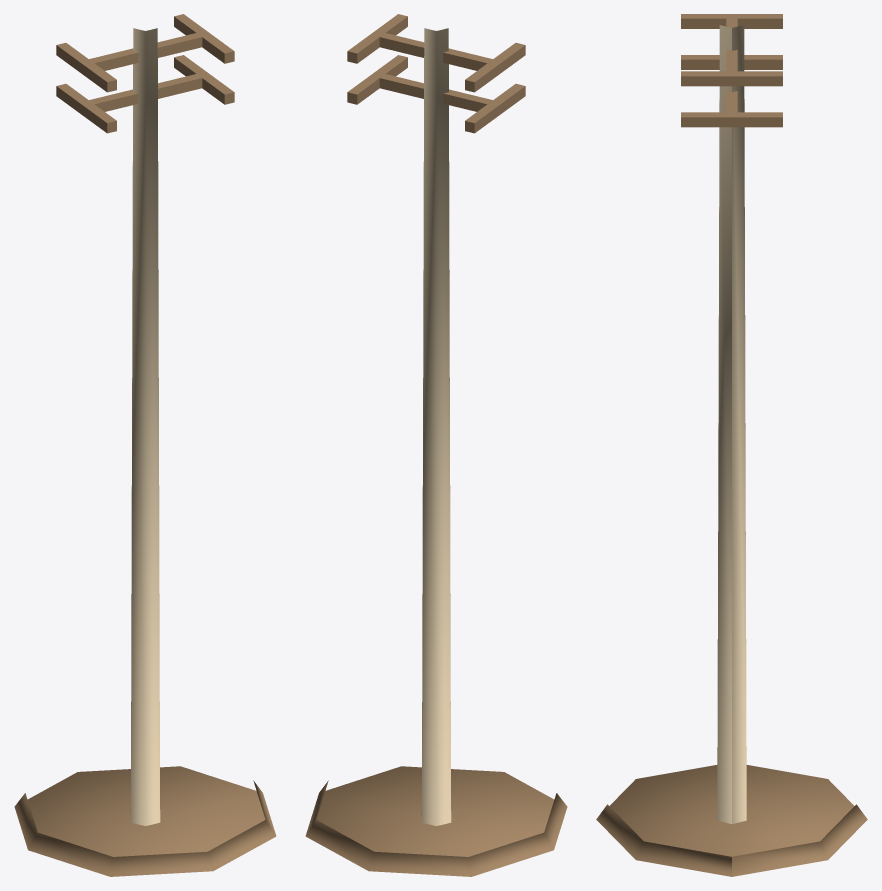
The model's file is coat_hanger.glb.
3 views of the same model, side by side, from view 1: azimuth 30°, elevation 25°; view 2: azimuth 150°, elevation 25°; view 3: azimuth 270°, elevation 25° (orthographic).
Visible parts, largest first — view 1: pole, base, hooks, hooks2; view 2: pole, base, hooks, hooks2; view 3: pole, base, hooks, hooks2.
Part boxes in pixels (bbox=[...]): pole: bbox=[130, 28, 160, 825]; base: bbox=[14, 766, 276, 876]; hooks: bbox=[56, 14, 234, 92]; hooks2: bbox=[56, 55, 234, 133]; pole: bbox=[421, 28, 451, 825]; base: bbox=[305, 766, 567, 876]; hooks: bbox=[347, 14, 525, 92]; hooks2: bbox=[347, 55, 525, 133]; pole: bbox=[717, 25, 746, 823]; base: bbox=[596, 765, 867, 876]; hooks: bbox=[681, 14, 782, 86]; hooks2: bbox=[681, 55, 782, 127].
Size of the model in its own units: 0.48 by 1.55 by 0.48.
